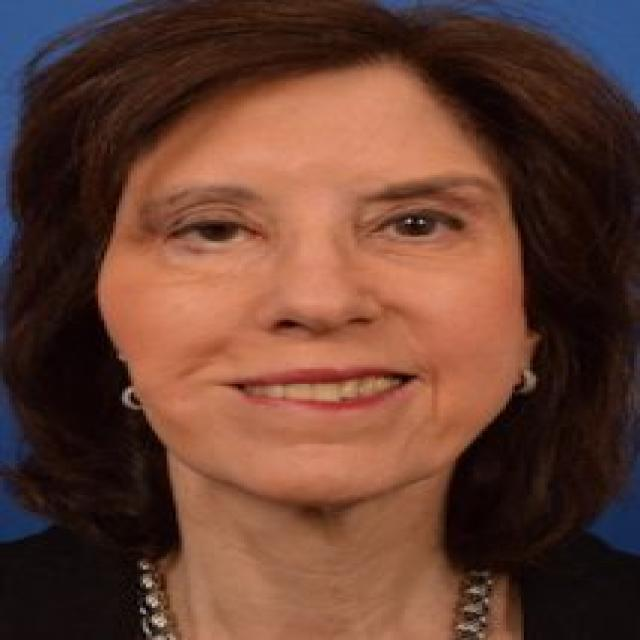stroke_face: (126, 133, 550, 499)
